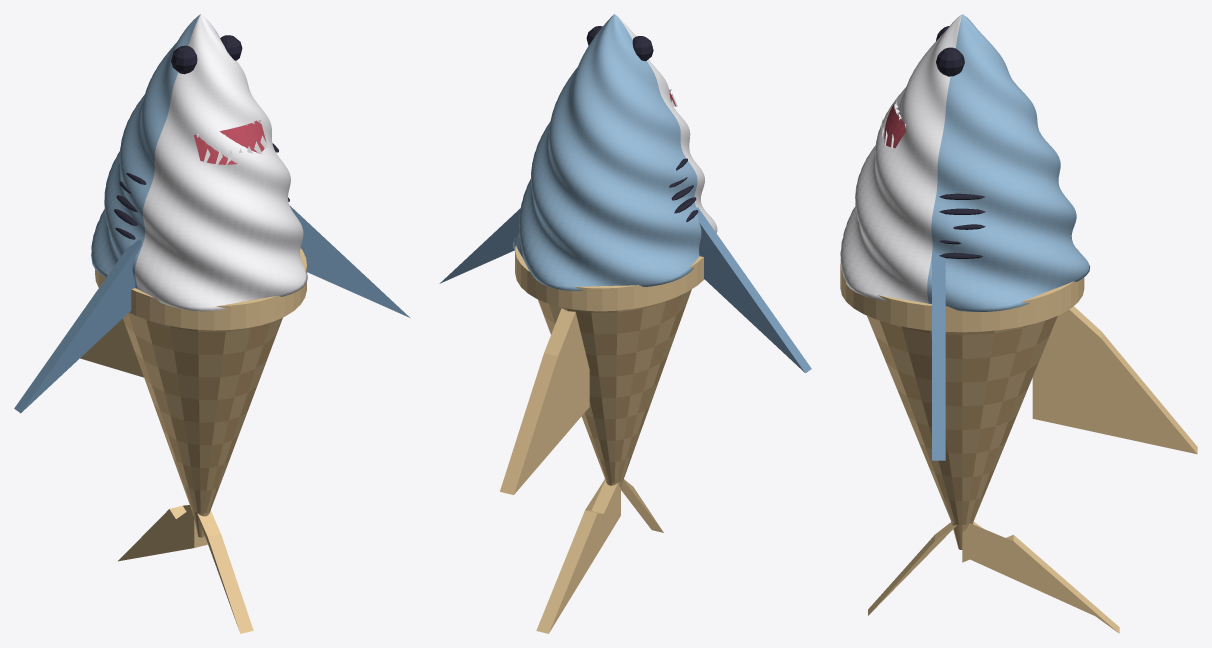
The model's file is item_shark_softserve.glb.
The picture shows the model from 3 angles, left to right: view 1: azimuth 30°, elevation 25°; view 2: azimuth 150°, elevation 25°; view 3: azimuth 270°, elevation 25°; orthographic projection. The views are drawn at different scales.
Parts seen in each view (by area): view 1: SharkSoftServe; view 2: SharkSoftServe; view 3: SharkSoftServe.
Part boxes in pixels (x1,y1,x2,y2): SharkSoftServe: [14, 14, 409, 633]; SharkSoftServe: [439, 14, 811, 633]; SharkSoftServe: [840, 14, 1197, 633].
Size of the model in its own units: 0.2346 by 0.346 by 0.1817.
